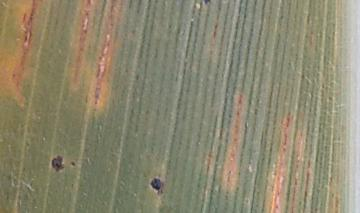tarspot: (148, 176, 165, 196), (50, 153, 67, 172), (68, 160, 76, 169), (22, 35, 28, 45), (134, 72, 140, 82), (202, 1, 212, 7), (212, 29, 217, 40), (167, 23, 173, 31), (97, 55, 103, 61), (279, 14, 284, 21), (11, 72, 16, 79), (85, 1, 91, 6)
